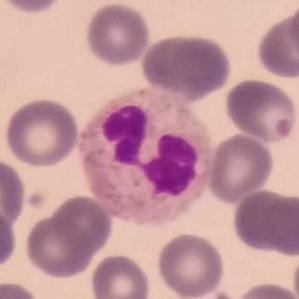Neutrophil: (81, 87, 214, 231)
Platelets: (21, 185, 51, 213), (271, 117, 296, 141)
RBC: (22, 193, 114, 280), (139, 32, 234, 100), (2, 96, 81, 169), (206, 132, 276, 204), (223, 77, 298, 144), (156, 229, 228, 298), (83, 1, 152, 68), (230, 188, 297, 256), (254, 8, 299, 81), (88, 251, 153, 299), (0, 156, 28, 232), (230, 280, 299, 299), (0, 205, 19, 273), (0, 0, 64, 15), (0, 278, 43, 298), (287, 0, 299, 64), (290, 260, 299, 299)
